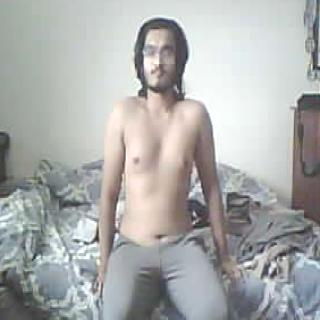Gray Sweatpants: (101, 236, 225, 320)
